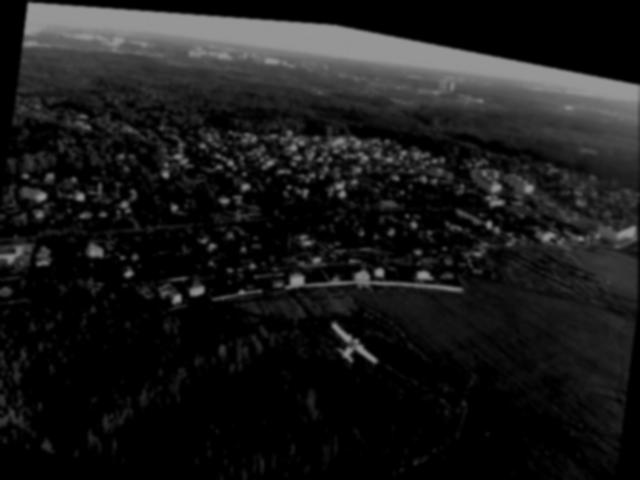hedef: (314, 298, 390, 376)
